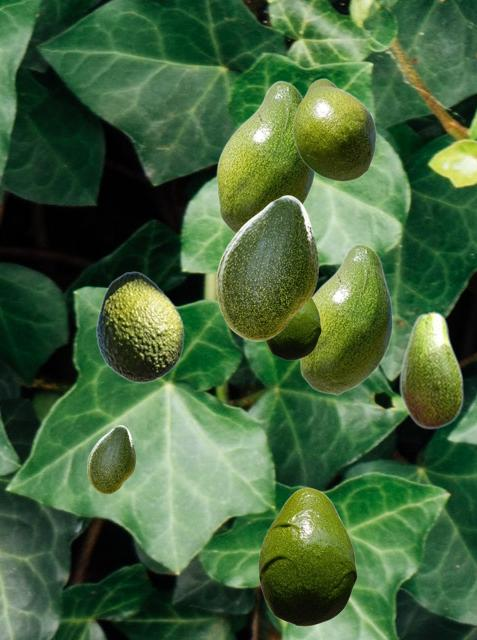avocado: (216, 80, 315, 234), (216, 195, 317, 340), (299, 243, 392, 394), (258, 487, 356, 625), (95, 271, 183, 382), (292, 78, 375, 181), (399, 310, 463, 429), (265, 297, 320, 359), (87, 425, 134, 493)
